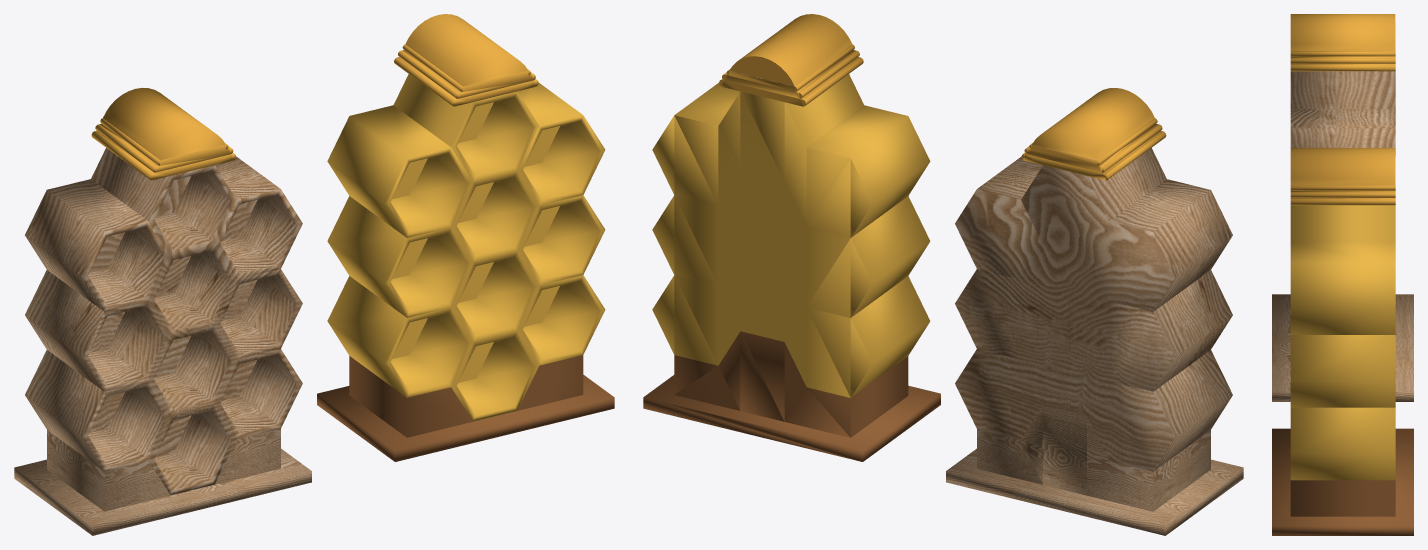
File: PLV-Ruche.glb
3 renders of one model, left to right at view 1: azimuth 30°, elevation 25°; view 2: azimuth 150°, elevation 25°; view 3: azimuth 270°, elevation 25°, orthographic. The views are drawn at different scales.
Visible parts, largest first — view 1: Socle.001, Socle; view 2: Socle.001, Socle; view 3: Socle.001, Socle.
Part boxes in pixels (x1,y1,x2,y2): Socle.001: (317,14,614,461); Socle: (14,87,311,535); Socle.001: (643,14,940,461); Socle: (946,88,1243,535); Socle.001: (1272,148,1413,535); Socle: (1272,14,1413,401).
Bounding box in the file's own units: 208 × 140 × 53.71.
Materials: 6 (1 with a texture image).
